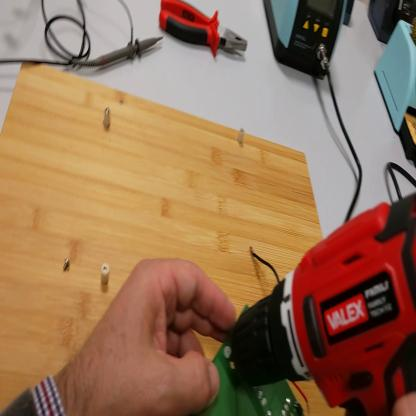electric screwdriver: (229, 189, 416, 416)
hand: (54, 255, 236, 413), (393, 395, 416, 414)
low voltage board: (198, 305, 302, 415)
oscilloscope probe tip: (89, 31, 161, 71)
pliers: (161, 1, 249, 62)
socket: (367, 2, 416, 44), (343, 1, 355, 27)
welder base: (374, 18, 416, 166)
welder station: (264, 3, 349, 81)
working area: (1, 57, 348, 415)
